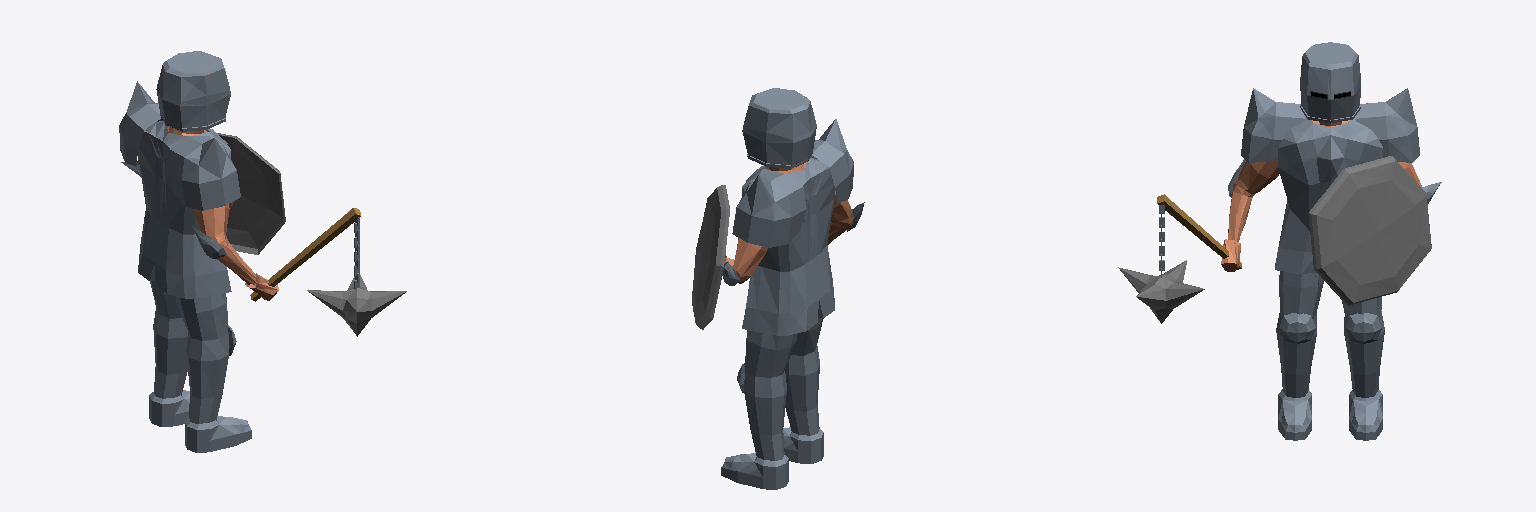
3 views of the same model, side by side, from view 1: azimuth 30°, elevation 25°; view 2: azimuth 150°, elevation 25°; view 3: azimuth 270°, elevation 25° (orthographic).
Parts seen in each view (by area): view 1: Cube_Cube.002; view 2: Cube_Cube.002; view 3: Cube_Cube.002.
Part boxes in pixels (x1,y1,x2,y2): Cube_Cube.002: (119, 51, 406, 452); Cube_Cube.002: (692, 88, 864, 489); Cube_Cube.002: (1118, 42, 1441, 440).
Bounding box in the file's own units: 3.05 × 6.69 × 5.34.
1 materials, 1 textured.